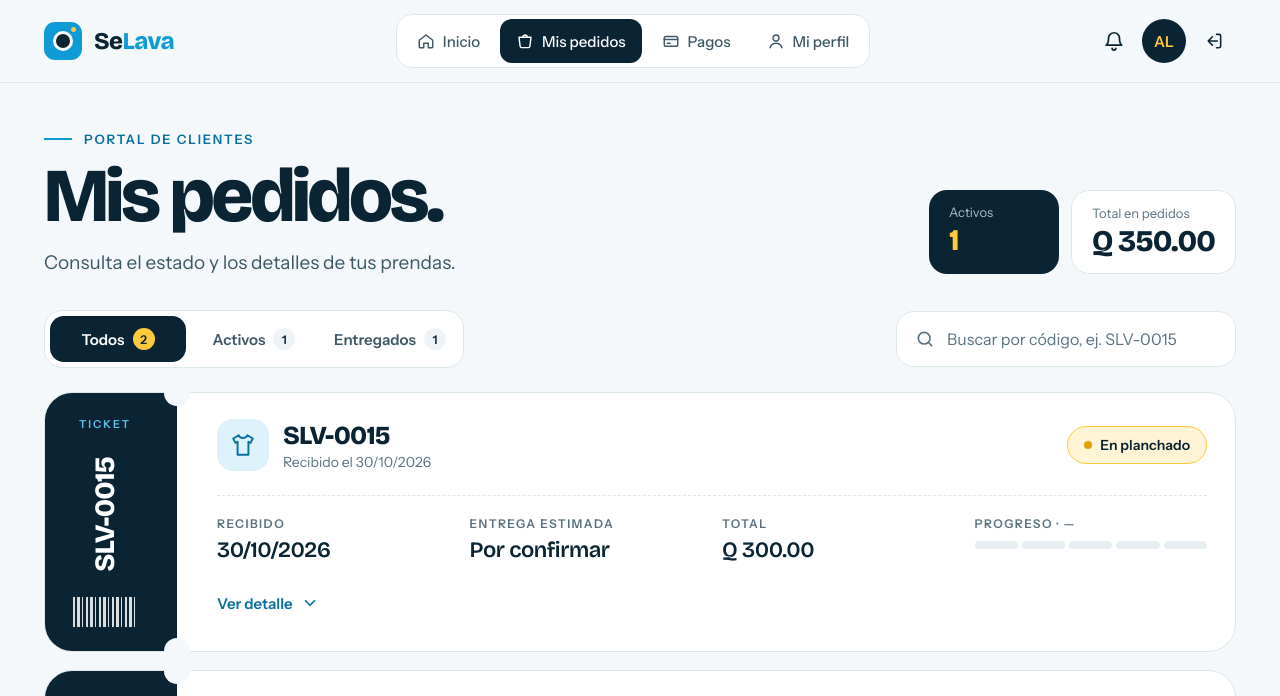
Test: pedidos del cliente SEL-105 › filtra por estado y busca por código sin consultar de nuevo la API
Expected: the heading "SLV-0015" is shown, [283, 420, 390, 451]
Expected: the text "Q 350.00" is shown, [1092, 224, 1215, 260]
Click the tab "Entregados 1" at point(390, 340), box [322, 316, 458, 362]
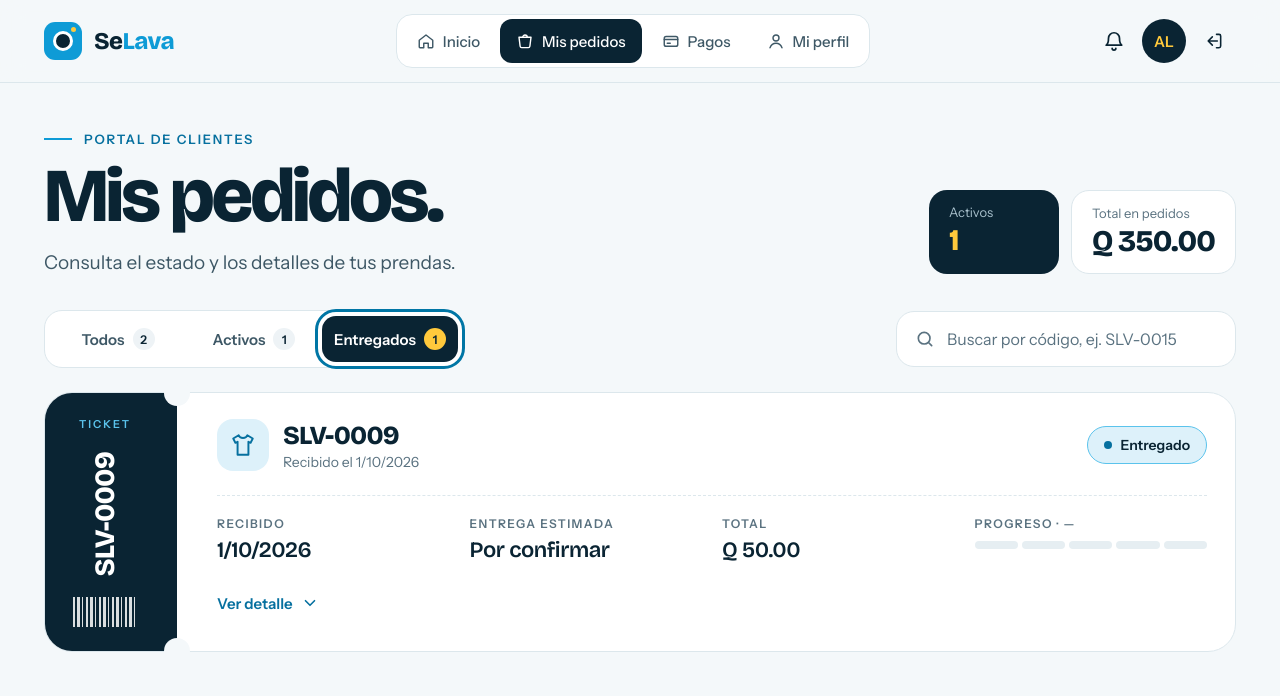
Expected: the heading "SLV-0009" is shown, [283, 420, 419, 451]
Click the tab "Todos 2" at point(118, 340), box [50, 316, 186, 362]
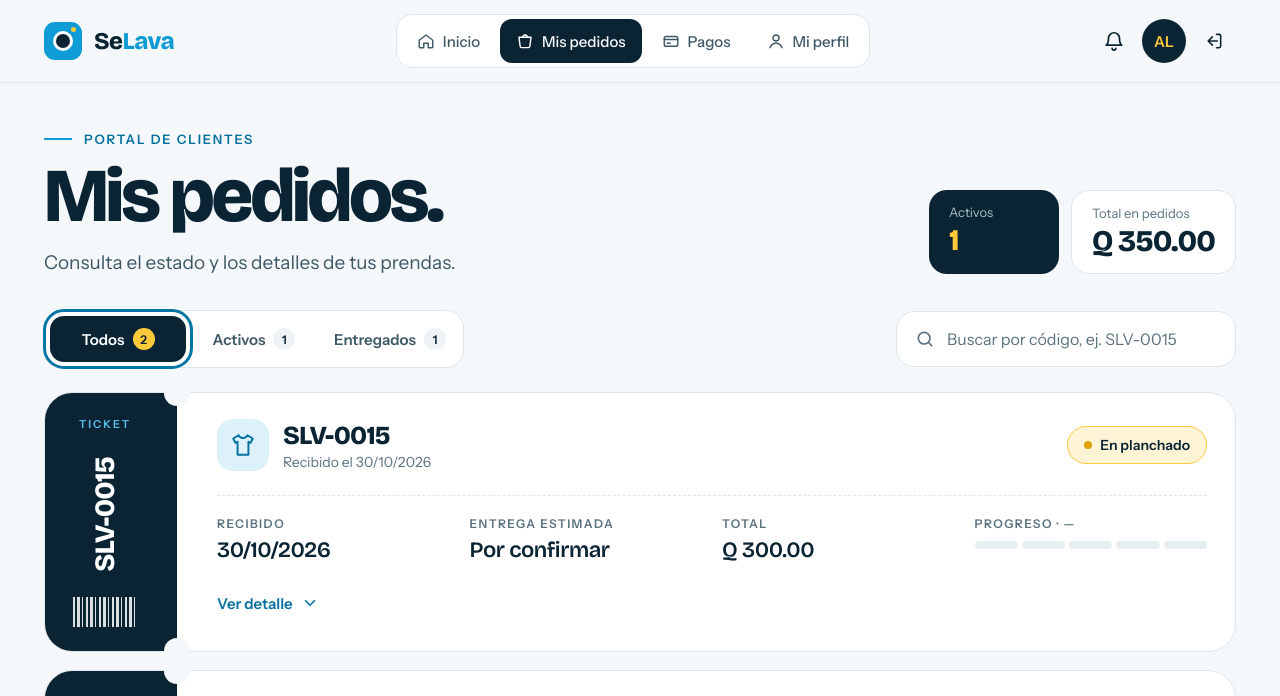
Type "slv-0015" into the search field named "Buscar pedido" at point(1081, 340), box [945, 328, 1217, 350]
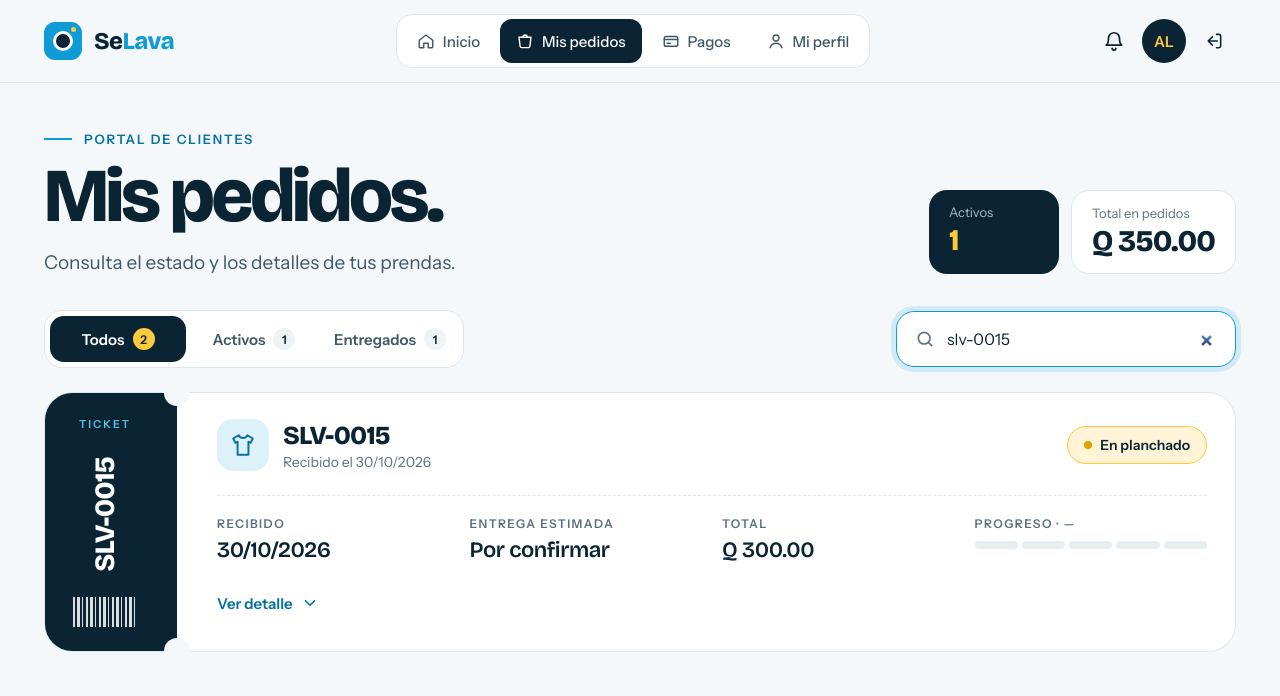
Now the heading "SLV-0015" is shown, box [283, 420, 390, 451]
Replace the text in the search field named "Buscar pedido" with "SLV-9999" at point(1081, 340), box [945, 328, 1217, 350]
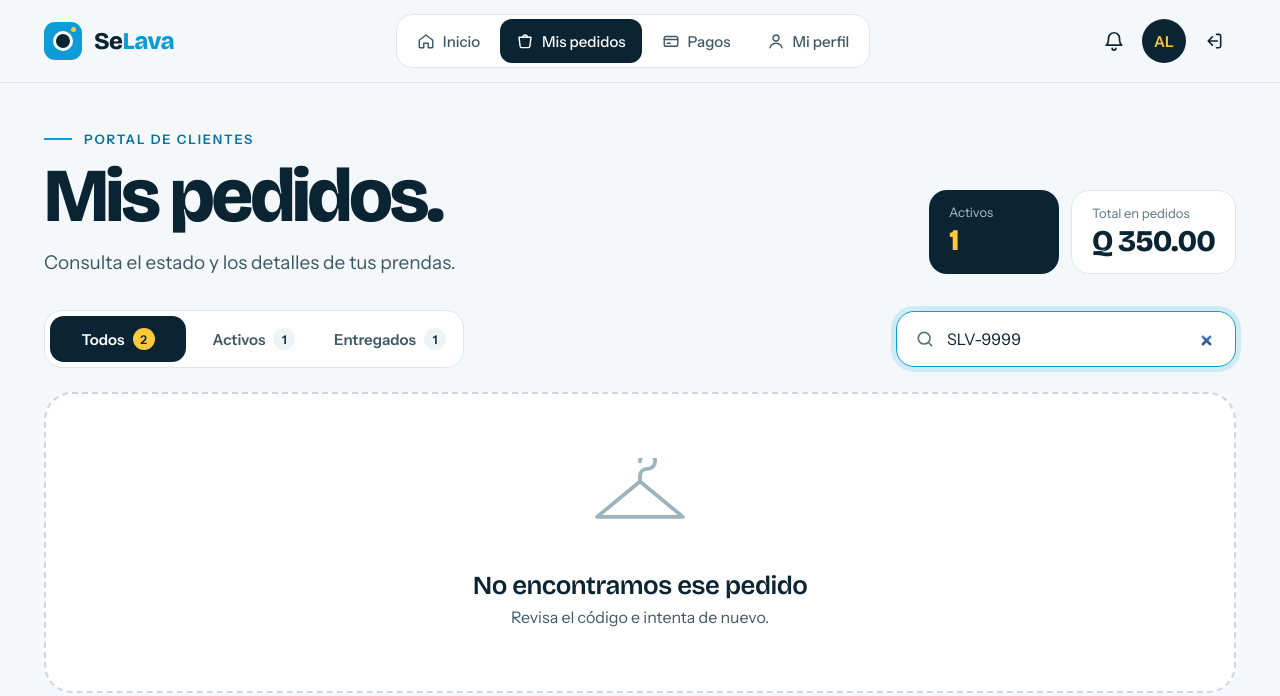
Now the heading "No encontramos ese pedido" is shown, box [473, 570, 807, 602]
